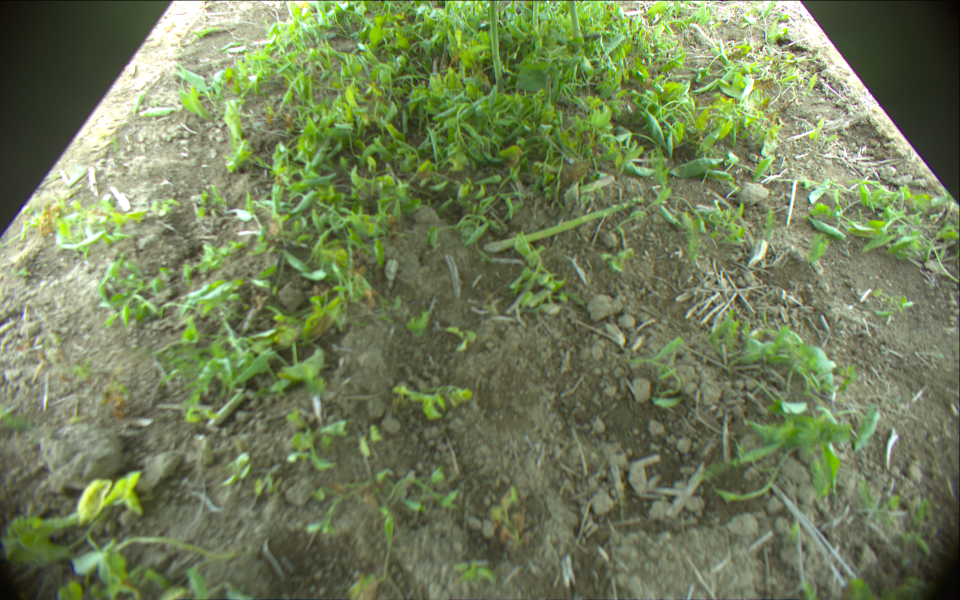aspa: (483, 196, 645, 254), (490, 1, 503, 92), (567, 1, 582, 47)
